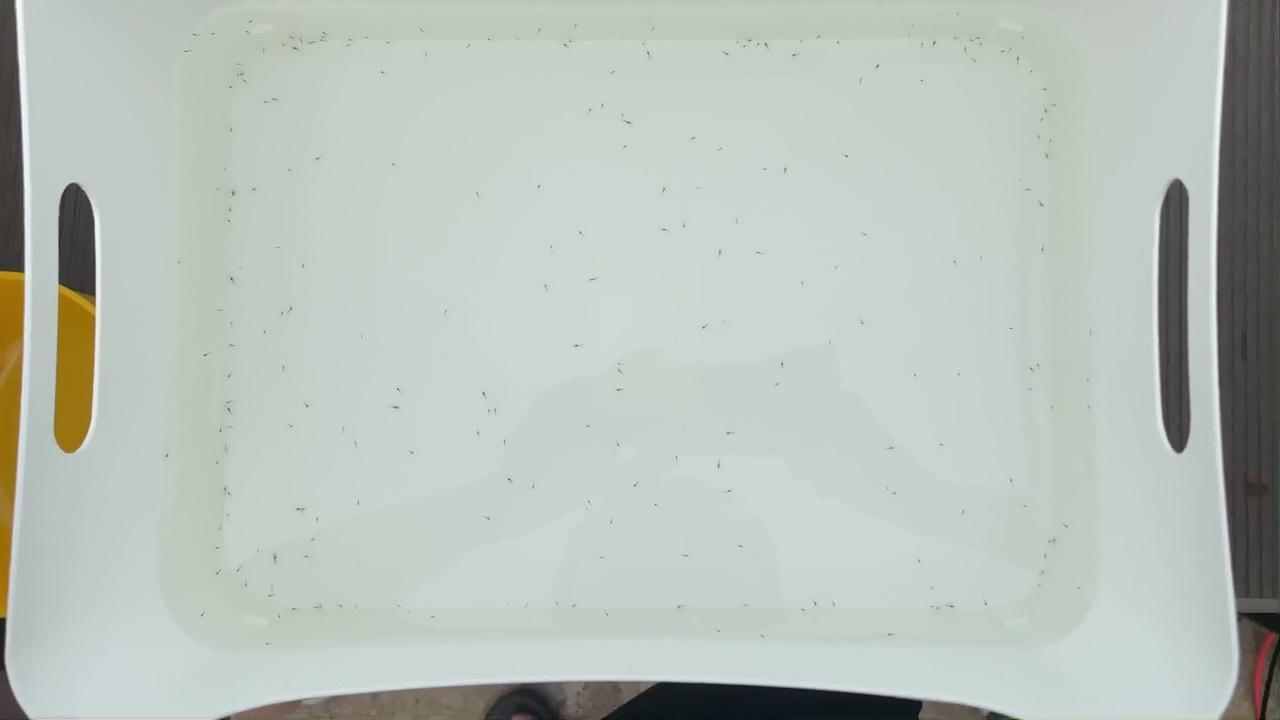shrimp: (1045, 140, 1058, 148), (1047, 102, 1060, 110), (916, 79, 929, 87), (566, 35, 579, 43), (558, 41, 571, 49), (322, 30, 335, 38), (288, 46, 301, 54), (244, 18, 257, 26), (226, 207, 239, 215), (225, 218, 238, 226), (286, 168, 299, 176), (215, 306, 228, 314), (266, 583, 279, 591), (307, 534, 320, 542), (949, 600, 962, 608), (977, 600, 990, 608), (1072, 584, 1085, 592), (890, 490, 903, 498), (885, 445, 898, 453), (951, 368, 964, 376), (1037, 251, 1050, 259), (1033, 202, 1046, 210), (617, 146, 630, 154), (599, 556, 612, 564), (654, 501, 667, 509), (617, 390, 630, 398), (614, 362, 627, 370), (703, 323, 716, 331), (659, 229, 672, 237), (676, 218, 689, 226), (751, 251, 764, 259), (1039, 107, 1051, 115), (1006, 46, 1018, 54), (973, 35, 985, 43), (203, 345, 215, 353), (225, 511, 237, 519), (391, 406, 403, 414), (712, 462, 724, 470), (1039, 153, 1052, 160), (1032, 137, 1045, 144), (1039, 119, 1052, 126), (1038, 81, 1051, 88), (1023, 63, 1036, 70), (1016, 34, 1029, 41), (1013, 59, 1026, 66), (996, 48, 1009, 55), (977, 41, 990, 48), (950, 10, 963, 17), (947, 33, 960, 40), (961, 46, 974, 53), (967, 53, 980, 60), (928, 38, 941, 45), (916, 45, 929, 52), (905, 30, 918, 37), (907, 22, 920, 29), (872, 62, 885, 69), (855, 75, 868, 82), (836, 37, 849, 44), (813, 34, 826, 41), (798, 39, 811, 46), (762, 42, 775, 49), (741, 36, 754, 43), (740, 46, 753, 53), (732, 37, 745, 44), (718, 52, 731, 59), (638, 50, 651, 57), (638, 40, 651, 47), (649, 25, 662, 32), (570, 23, 583, 30), (536, 24, 549, 31), (608, 73, 621, 80), (464, 44, 477, 51), (416, 26, 429, 33), (422, 47, 435, 54), (386, 40, 399, 47), (377, 74, 390, 81), (360, 33, 373, 40), (344, 34, 357, 41), (342, 41, 355, 48), (316, 36, 329, 43), (311, 38, 324, 45), (306, 38, 319, 45), (297, 36, 310, 43), (284, 32, 297, 39), (278, 44, 291, 51), (260, 47, 273, 54), (243, 28, 256, 35), (208, 28, 221, 35), (192, 34, 205, 41), (183, 45, 196, 52), (230, 68, 243, 75), (236, 70, 249, 77), (240, 78, 253, 85), (225, 81, 238, 88), (260, 98, 273, 105), (271, 98, 284, 105), (227, 127, 240, 134), (221, 165, 234, 172), (227, 191, 240, 198), (250, 185, 263, 192), (314, 158, 327, 165), (227, 269, 240, 276), (276, 246, 289, 253), (297, 258, 310, 265), (277, 305, 290, 312), (260, 323, 273, 330), (228, 320, 241, 327), (174, 259, 187, 266), (162, 448, 175, 455), (227, 344, 240, 351), (221, 375, 234, 382), (279, 364, 292, 371), (299, 401, 312, 408), (289, 421, 302, 428), (225, 407, 238, 414), (219, 403, 232, 410), (217, 428, 230, 435), (222, 445, 235, 452), (226, 492, 239, 499), (218, 526, 231, 533), (210, 549, 223, 556), (210, 568, 223, 575), (197, 613, 210, 620), (259, 638, 272, 645), (238, 579, 251, 586), (232, 569, 245, 576), (236, 567, 249, 574), (255, 547, 268, 554), (270, 555, 283, 562), (302, 552, 315, 559), (311, 514, 324, 521), (297, 510, 310, 517), (316, 599, 329, 606), (312, 608, 325, 615), (351, 603, 364, 610), (391, 604, 404, 611), (431, 615, 444, 622), (520, 603, 533, 610), (550, 599, 563, 606), (570, 605, 583, 612), (674, 601, 687, 608), (744, 600, 757, 607), (753, 632, 766, 639), (795, 605, 808, 612), (814, 599, 827, 606), (826, 602, 839, 609), (881, 629, 894, 636), (932, 603, 945, 610), (925, 589, 938, 596), (909, 559, 922, 566), (1037, 567, 1050, 574), (1038, 554, 1051, 561), (1046, 541, 1059, 548), (1063, 524, 1076, 531), (1013, 500, 1026, 507), (1004, 476, 1017, 483), (955, 505, 968, 512), (883, 487, 896, 494), (938, 445, 951, 452), (908, 375, 921, 382), (1087, 405, 1100, 412), (1087, 333, 1100, 340), (1026, 363, 1039, 370), (1031, 363, 1044, 370), (1004, 327, 1017, 334), (1018, 185, 1031, 192), (973, 255, 986, 262), (948, 256, 961, 263), (840, 157, 853, 164), (781, 170, 794, 177), (752, 166, 765, 173), (687, 137, 700, 144), (622, 116, 635, 123), (615, 110, 628, 117), (602, 104, 615, 111), (582, 109, 595, 116), (537, 182, 550, 189), (474, 188, 487, 195), (388, 161, 401, 168), (544, 246, 557, 253), (577, 228, 590, 235), (589, 275, 602, 282), (570, 341, 583, 348), (355, 337, 368, 344), (337, 423, 350, 430), (353, 502, 366, 509), (391, 385, 404, 392), (476, 389, 489, 396), (470, 430, 483, 437), (480, 515, 493, 522), (586, 499, 599, 506), (606, 521, 619, 528), (738, 542, 751, 549), (726, 482, 739, 489), (724, 433, 737, 440), (672, 456, 685, 463), (579, 423, 592, 430), (617, 373, 630, 380), (770, 380, 783, 387), (773, 363, 786, 370), (854, 316, 867, 323), (658, 193, 671, 200), (694, 185, 707, 192), (735, 216, 748, 223), (800, 281, 813, 288), (967, 36, 979, 43), (789, 50, 801, 57), (751, 41, 763, 48), (485, 36, 497, 43), (236, 61, 248, 68), (213, 186, 225, 193), (286, 303, 298, 310), (286, 311, 298, 318), (225, 397, 237, 404), (214, 459, 226, 466), (219, 483, 231, 490), (275, 609, 287, 616), (264, 593, 276, 600), (291, 605, 303, 612), (336, 603, 348, 610), (601, 610, 613, 617), (718, 626, 730, 633), (928, 605, 940, 612), (1033, 580, 1045, 587), (1050, 539, 1062, 546), (1050, 406, 1062, 413), (1083, 378, 1095, 385), (1022, 385, 1034, 392), (718, 147, 730, 154), (541, 282, 553, 289), (441, 309, 453, 316), (352, 439, 364, 446), (407, 447, 419, 454), (485, 412, 497, 419), (490, 407, 502, 414), (501, 436, 513, 443), (502, 478, 514, 485), (529, 485, 541, 492), (684, 553, 696, 560), (629, 482, 641, 489), (612, 441, 624, 448), (823, 342, 835, 349), (861, 230, 873, 237), (717, 251, 729, 258), (828, 263, 840, 270), (408, 611, 420, 618)
